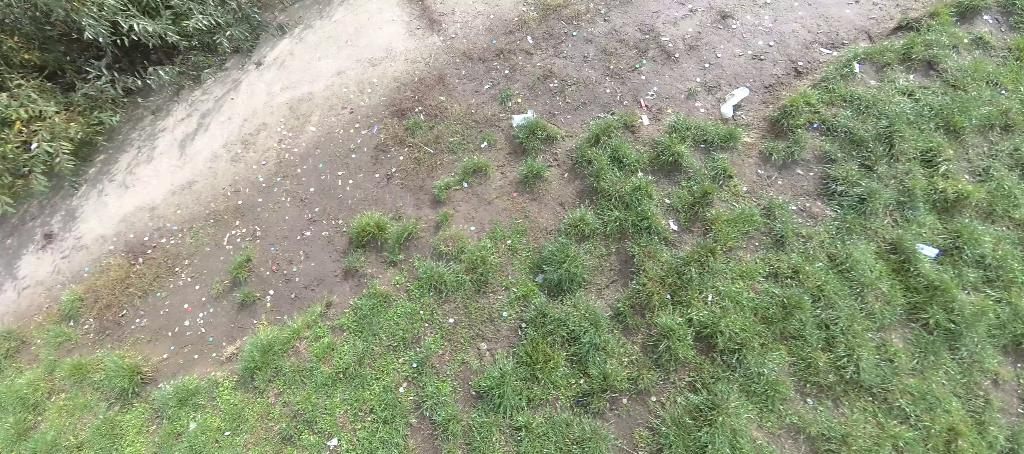garbage: (714, 85, 750, 120)
